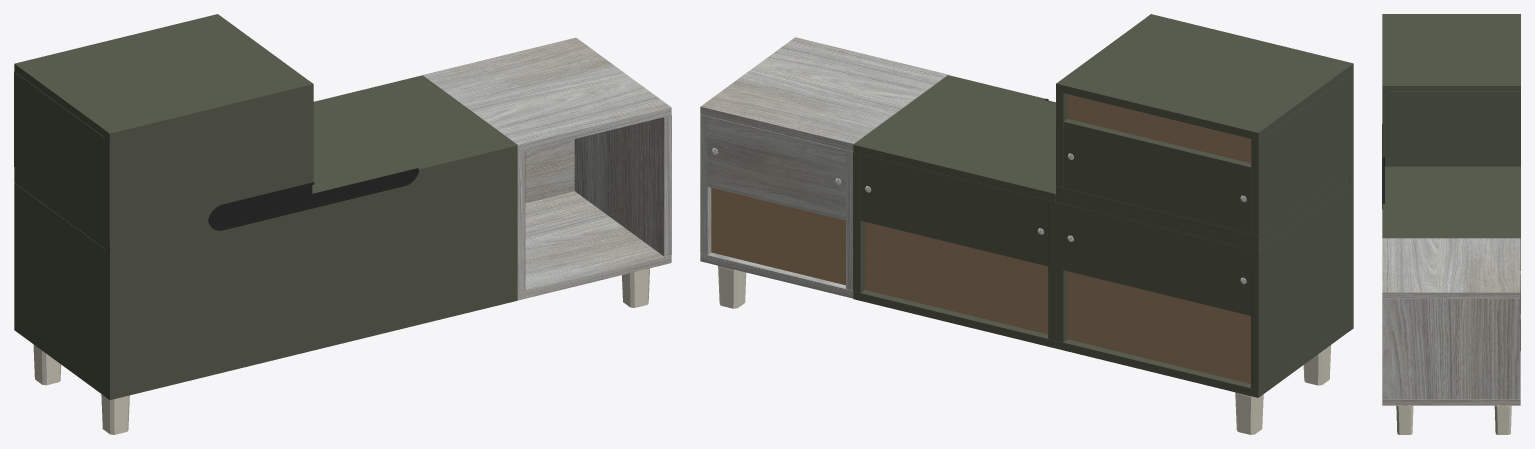
3 renders of one model, left to right at view 1: azimuth 30°, elevation 25°; view 2: azimuth 150°, elevation 25°; view 3: azimuth 270°, elevation 25°, orthographic. The views are drawn at different scales.
Visible parts, largest first — view 1: group_0.094, group_0.148, group_0.146, group_0.145, Plane, group_0.114, group_0.147, group_0.149, group_0.143, group_0.015; view 2: group_0.094, group_0.148, group_0.146, group_0.145, group_0.150, group_0.144, Plane.001, group_0.114, group_0.015; view 3: group_0.145, group_0.094, group_0.146, group_0.015.
Boxes of the visible parts, x1,y1,x2,y2 form: group_0.094: [14, 14, 313, 244]; group_0.148: [14, 175, 313, 399]; group_0.146: [312, 75, 517, 350]; group_0.145: [422, 37, 671, 300]; Plane: [525, 139, 574, 203]; group_0.114: [33, 344, 129, 434]; group_0.147: [312, 168, 419, 207]; group_0.149: [208, 194, 313, 230]; group_0.143: [208, 182, 314, 220]; group_0.015: [622, 268, 649, 307]; group_0.094: [1056, 14, 1353, 243]; group_0.148: [1056, 174, 1353, 397]; group_0.146: [853, 75, 1055, 348]; group_0.145: [700, 37, 948, 298]; group_0.150: [1067, 94, 1250, 383]; group_0.144: [865, 188, 1048, 334]; Plane.001: [711, 178, 845, 285]; group_0.114: [1235, 345, 1331, 434]; group_0.015: [718, 265, 746, 308]; group_0.145: [1382, 238, 1520, 405]; group_0.094: [1382, 14, 1520, 166]; group_0.146: [1382, 166, 1520, 350]; group_0.015: [1396, 405, 1511, 434].
Bounding box in the file's own units: 1.32 × 0.7028 × 0.391.
Materials: 8 (3 with a texture image).
